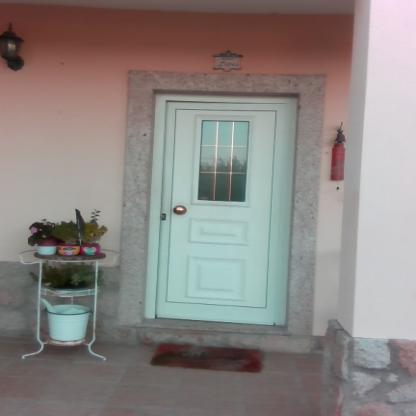door: (165, 99, 281, 326)
knob: (174, 205, 189, 215)
